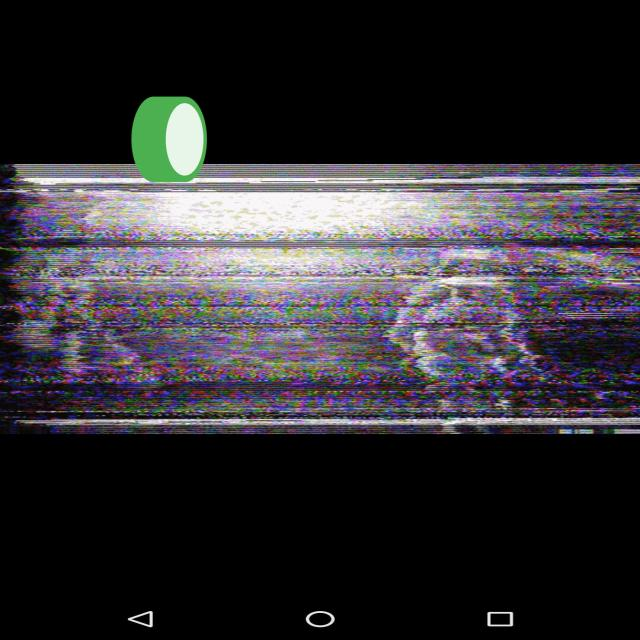social proof: (128, 64, 210, 222)
